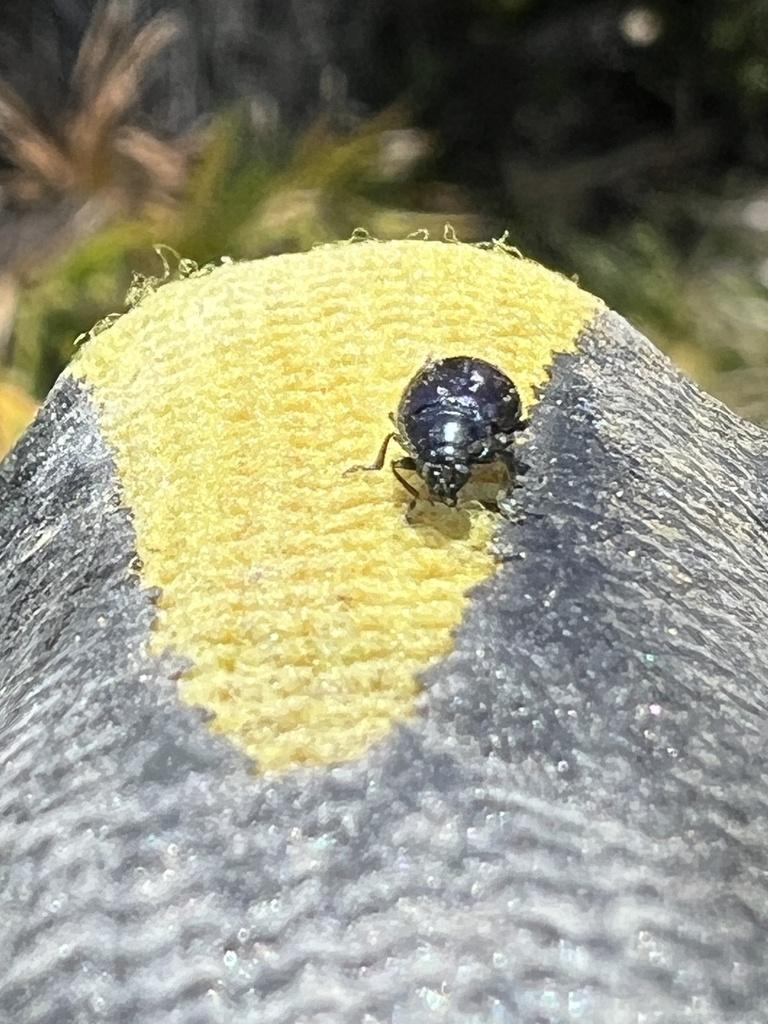flea_beetle: (329, 293, 583, 554)
